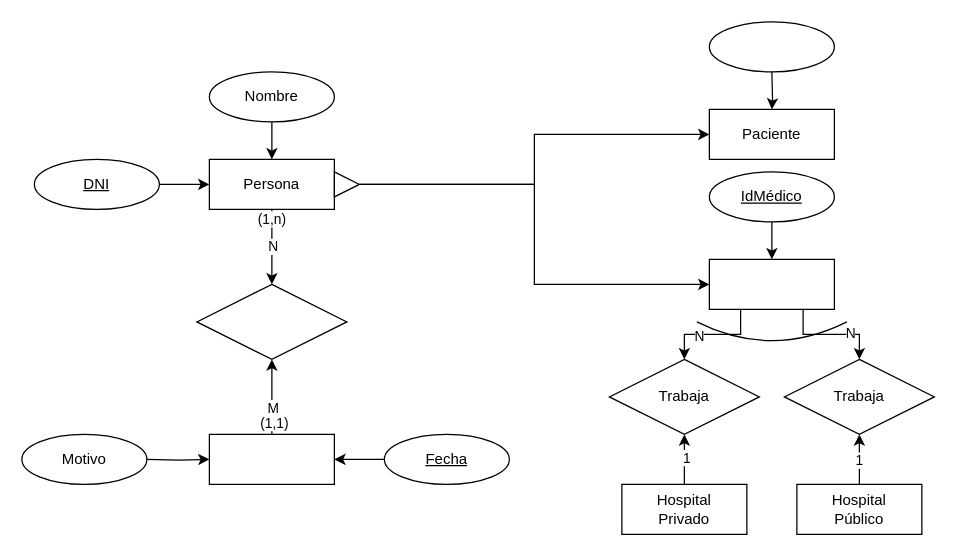
Image size: 956x556. Some labels were removed from this diagram. The centre of each missing label's shape, as x and y in pixels:
"Cita" goes at [271,458].
"IdPaciente" goes at [771,46].
"Médico" goes at [771,283].
"Tiene" goes at [271,321].
